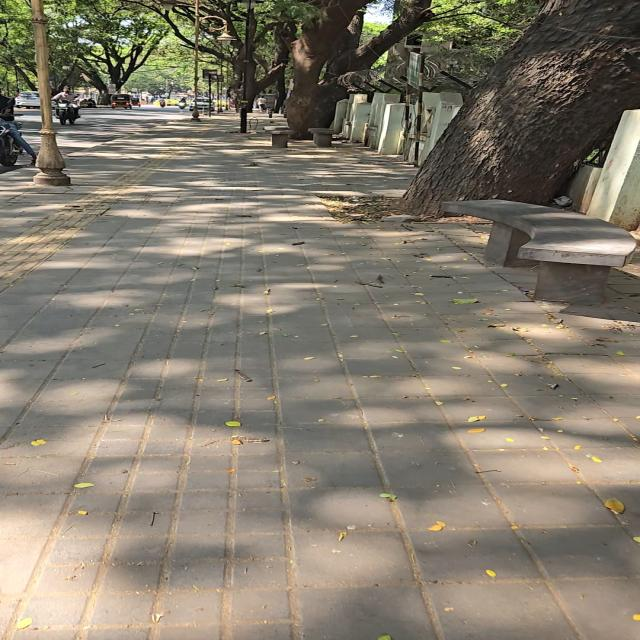obstacle: (404, 0, 639, 217), (405, 0, 639, 216), (288, 0, 536, 135), (442, 200, 635, 303), (288, 0, 433, 136), (287, 0, 433, 134), (287, 0, 366, 138), (199, 0, 296, 109), (66, 0, 168, 103), (31, 0, 70, 185), (0, 0, 37, 91), (240, 0, 251, 133), (414, 57, 423, 166), (192, 0, 200, 121), (308, 128, 334, 147), (275, 68, 286, 112), (271, 130, 293, 148), (217, 75, 223, 113), (15, 66, 20, 93), (208, 74, 211, 117)
person: (0, 94, 36, 163), (52, 87, 79, 117), (256, 96, 266, 112)
vehical: (0, 120, 22, 166), (56, 100, 78, 124), (178, 99, 186, 109), (159, 100, 165, 107)
